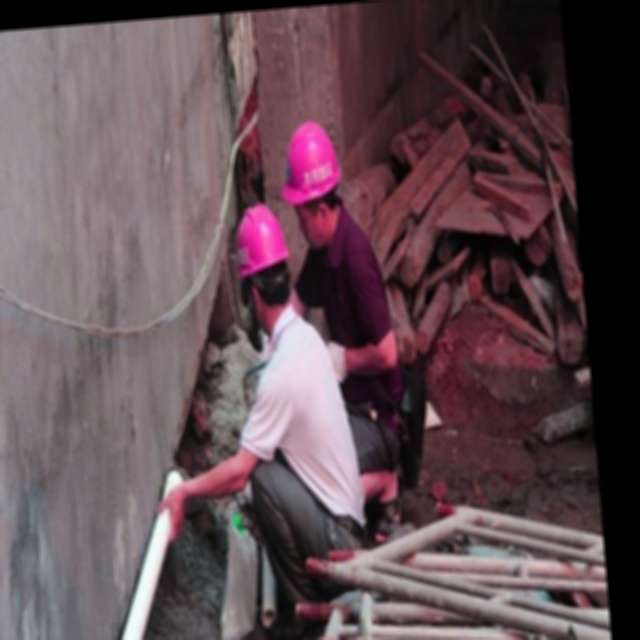Con_Casco: (283, 119, 346, 236), (235, 199, 292, 314)
